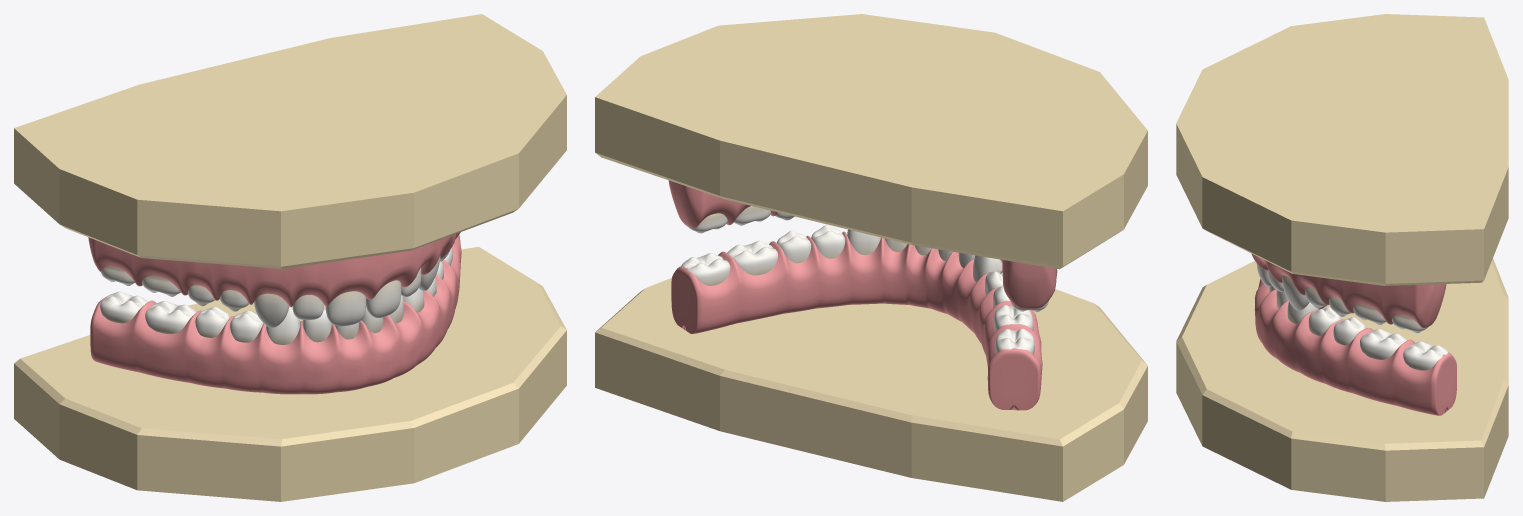
File: protese-total-3.glb
3 views of the same model, side by side, from view 1: azimuth 30°, elevation 25°; view 2: azimuth 150°, elevation 25°; view 3: azimuth 270°, elevation 25° (orthographic). The views are drawn at different scales.
Visible parts, largest first — view 1: GessoSuperior, GessoInferior, InfGengiva, SupGengiva, InfDente_1, SupDente_6, InfDente_0, SupDente_7, SupDente_4, InfDente_3, InfDente_2, InfDente_4 (+2 smaller); view 2: GessoSuperior, GessoInferior, InfGengiva, SupGengiva, InfDente_12, InfDente_13, InfDente_10, InfDente_11, InfDente_0, InfDente_1; view 3: GessoSuperior, GessoInferior, InfGengiva, SupGengiva, InfDente_12, InfDente_13, InfDente_11, InfDente_10, SupDente_9, SupDente_12, SupDente_13.
Part boxes in pixels (x1=…): GessoSuperior: x1=14, y1=14, x2=566, y2=268; GessoInferior: x1=14, y1=246, x2=566, y2=501; InfGengiva: x1=90, y1=235, x2=461, y2=394; SupGengiva: x1=88, y1=232, x2=460, y2=307; InfDente_1: x1=145, y1=301, x2=196, y2=334; SupDente_6: x1=325, y1=291, x2=365, y2=326; InfDente_0: x1=100, y1=291, x2=147, y2=323; SupDente_7: x1=366, y1=280, x2=401, y2=317; SupDente_4: x1=254, y1=293, x2=289, y2=327; InfDente_3: x1=230, y1=310, x2=263, y2=342; InfDente_2: x1=195, y1=306, x2=229, y2=337; InfDente_4: x1=266, y1=306, x2=300, y2=344; GessoSuperior: x1=595, y1=14, x2=1147, y2=269; GessoInferior: x1=595, y1=278, x2=1147, y2=501; InfGengiva: x1=671, y1=231, x2=1042, y2=410; SupGengiva: x1=668, y1=180, x2=1057, y2=308; InfDente_12: x1=727, y1=240, x2=777, y2=275; InfDente_13: x1=681, y1=253, x2=730, y2=285; InfDente_10: x1=811, y1=225, x2=845, y2=258; InfDente_11: x1=777, y1=230, x2=811, y2=263; InfDente_0: x1=995, y1=328, x2=1034, y2=354; InfDente_1: x1=994, y1=305, x2=1033, y2=331; GessoSuperior: x1=1176, y1=14, x2=1508, y2=285; GessoInferior: x1=1176, y1=258, x2=1508, y2=501; InfGengiva: x1=1254, y1=279, x2=1456, y2=415; SupGengiva: x1=1251, y1=253, x2=1446, y2=328; InfDente_12: x1=1360, y1=329, x2=1406, y2=359; InfDente_13: x1=1403, y1=341, x2=1448, y2=370; InfDente_11: x1=1333, y1=317, x2=1365, y2=345; InfDente_10: x1=1308, y1=307, x2=1341, y2=335; SupDente_9: x1=1282, y1=275, x2=1309, y2=310; SupDente_12: x1=1353, y1=304, x2=1386, y2=324; SupDente_13: x1=1392, y1=315, x2=1433, y2=333.
Bounding box in the file's own units: 0.0882 × 0.0507 × 0.0567.
